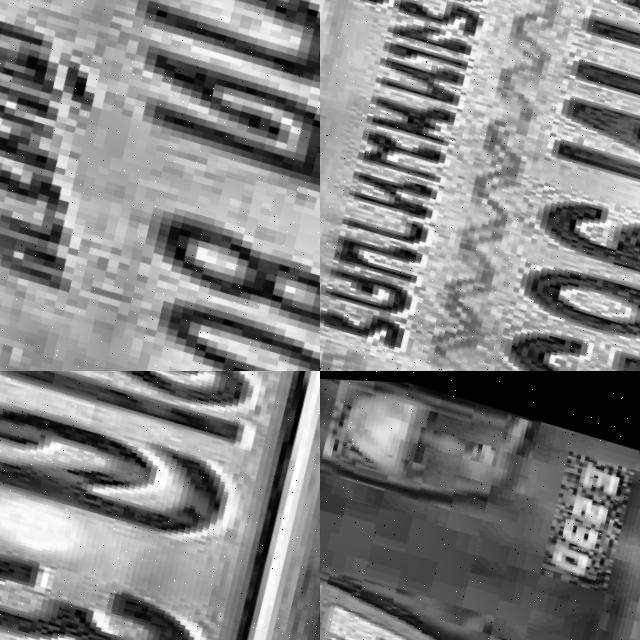license-plate: (0, 0, 320, 371), (320, 0, 640, 371), (0, 371, 320, 640), (320, 528, 532, 640)
